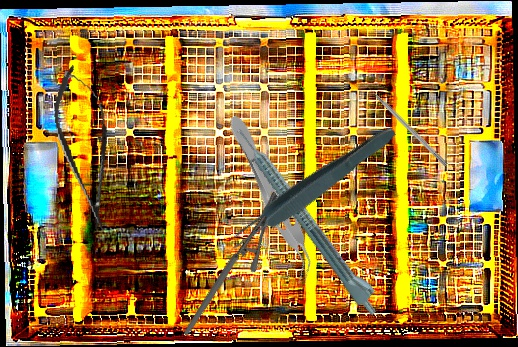Handpiece: (232, 119, 388, 319)
Hook Surgical: (360, 78, 449, 168)
Micro Scissor: (46, 61, 125, 237)
Needle Holder: (148, 190, 312, 337)
Tissue Forceps: (223, 119, 401, 256), (220, 110, 325, 285)
